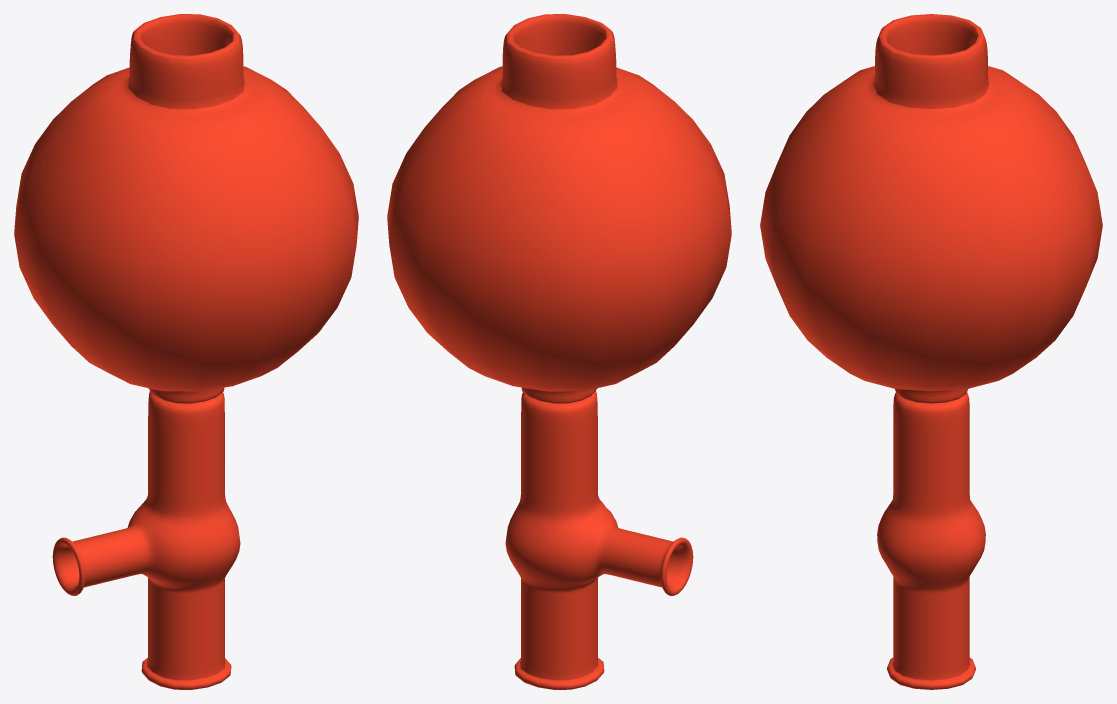
The model's file is Karet penghisap.fbx.
The picture shows the model from 3 angles, left to right: view 1: azimuth 30°, elevation 25°; view 2: azimuth 150°, elevation 25°; view 3: azimuth 270°, elevation 25°; orthographic projection.
Parts seen in each view (by area): view 1: Cube.053; view 2: Cube.053; view 3: Cube.053.
Part boxes in pixels (left/top/right/bottom): Cube.053: left=14, top=14, right=358, bottom=689; Cube.053: left=387, top=14, right=731, bottom=689; Cube.053: left=760, top=14, right=1102, bottom=689.
Size of the model in its own units: 1.03 by 2.11 by 1.03.
